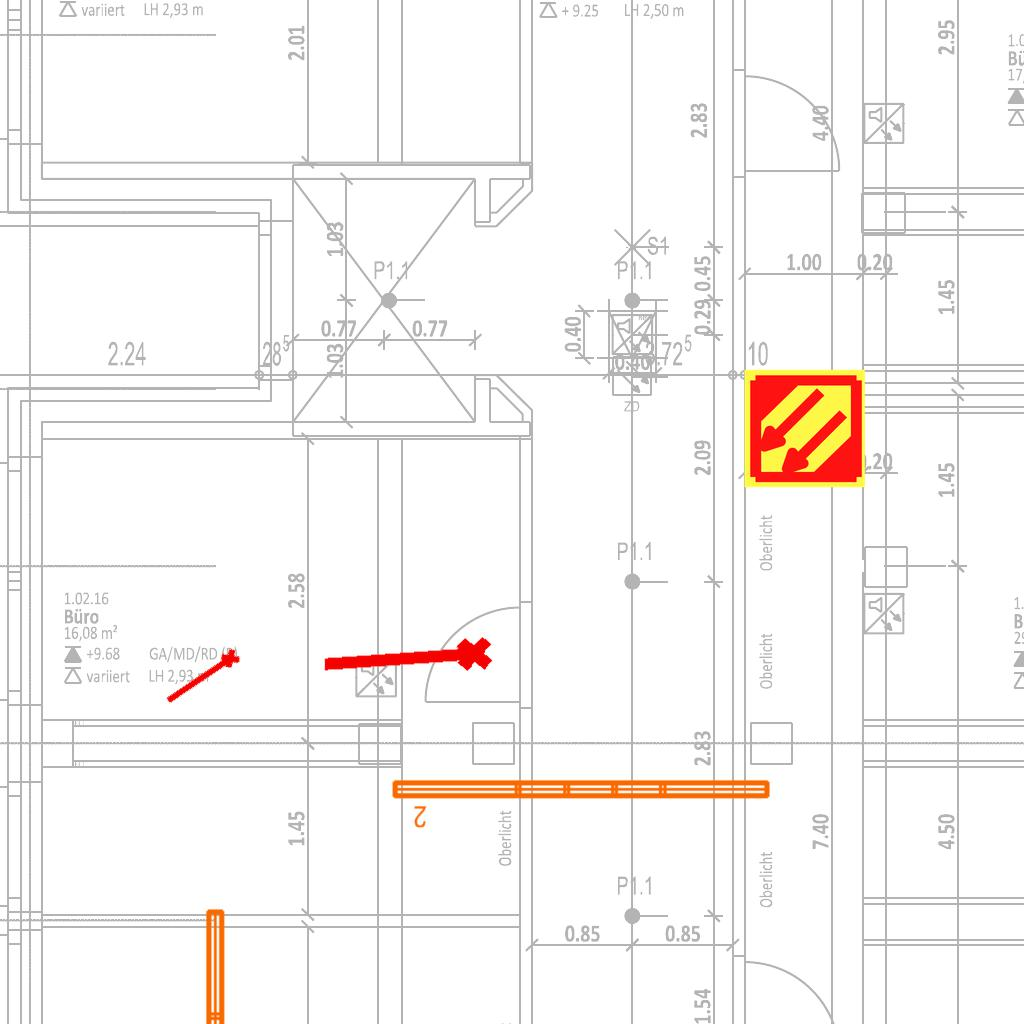ASR_Ansaugoeffnung: (317, 631, 497, 691), (160, 644, 246, 713)
ASR_Ansaugrauchmelder: (742, 366, 867, 491)
Ambulanz_Pendelleuchte_LED: (388, 774, 775, 830), (200, 904, 256, 1024)
